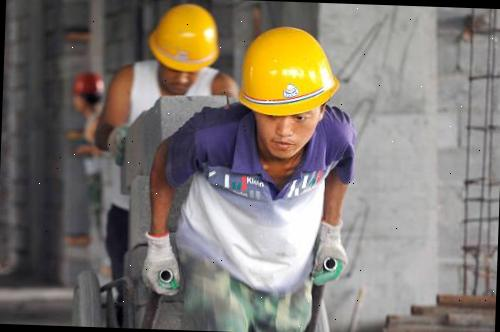helmet: (237, 23, 343, 118), (144, 2, 224, 70)
no_wear: (185, 114, 330, 292)
